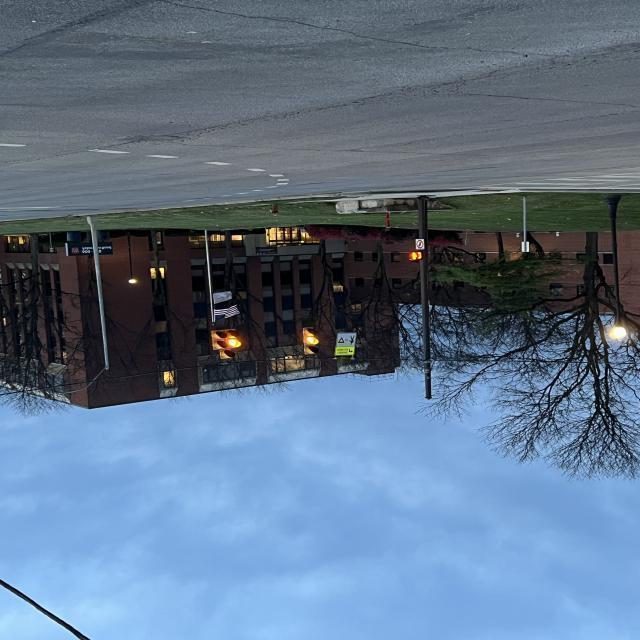yellow_light: (216, 312, 246, 371)
